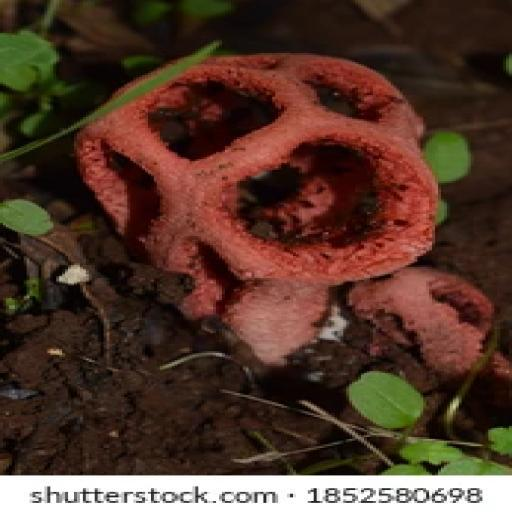mushroom: (72, 52, 450, 376), (342, 253, 512, 379)
